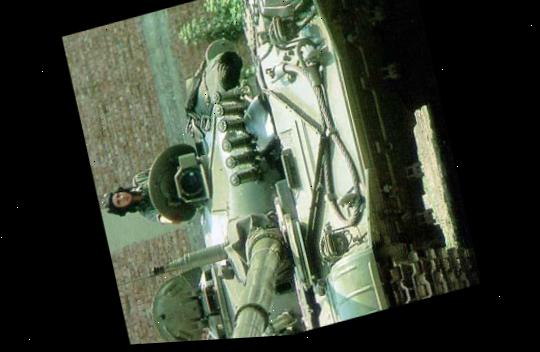tank: (85, 0, 481, 347)
